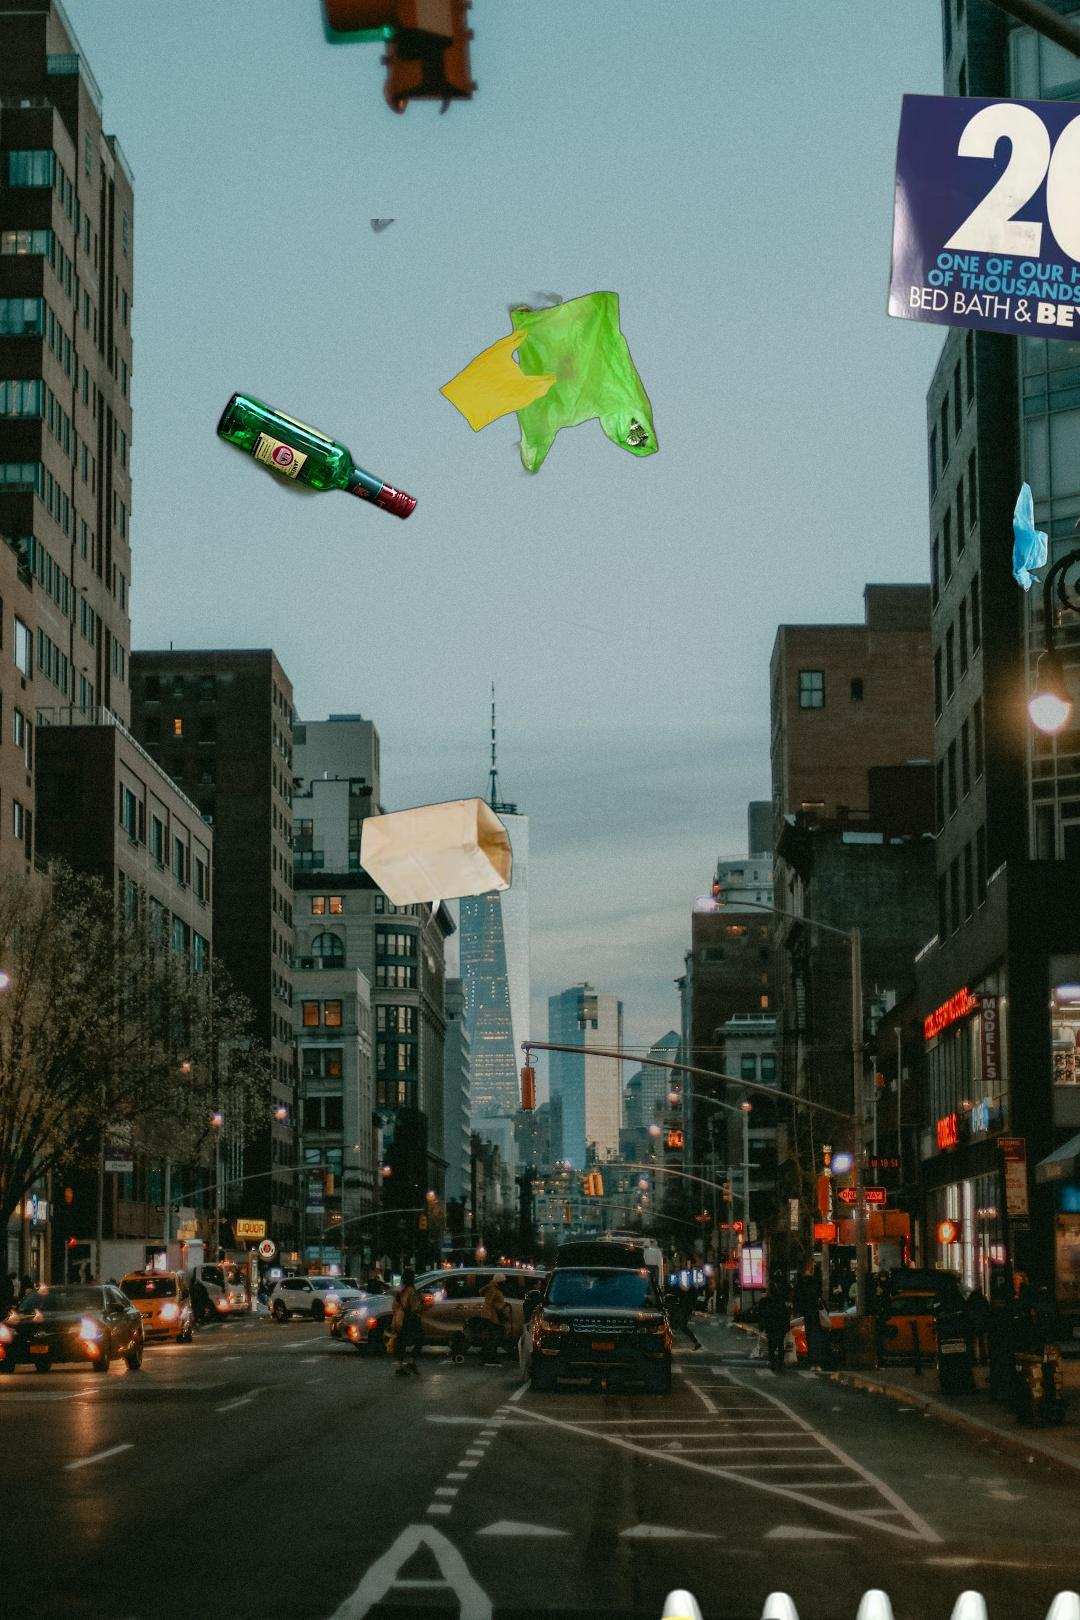glass: (211, 219, 421, 525)
paper: (885, 90, 1080, 346)
paper-bag: (357, 795, 524, 1017)
penholder: (581, 1583, 1080, 1620)
plastic-bag: (435, 289, 662, 482), (1010, 477, 1052, 596)
